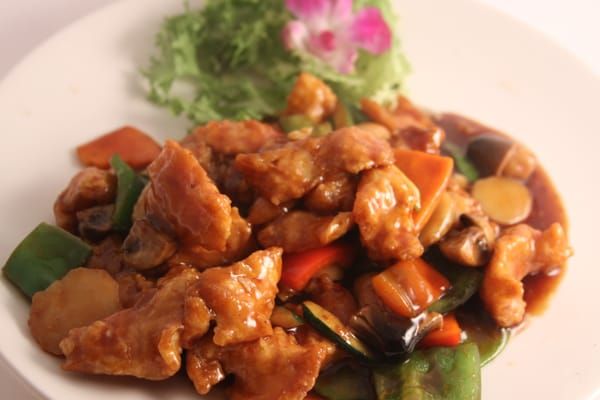curry: (136, 0, 417, 128), (136, 0, 305, 126)
